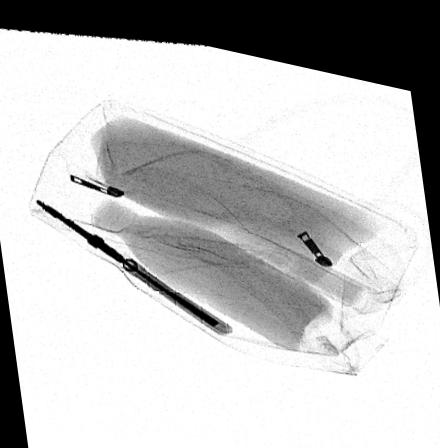Pliers: (33, 194, 224, 319)
